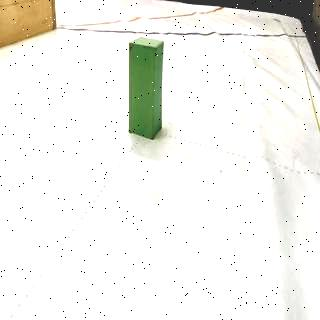greenbox: (128, 36, 166, 140)
